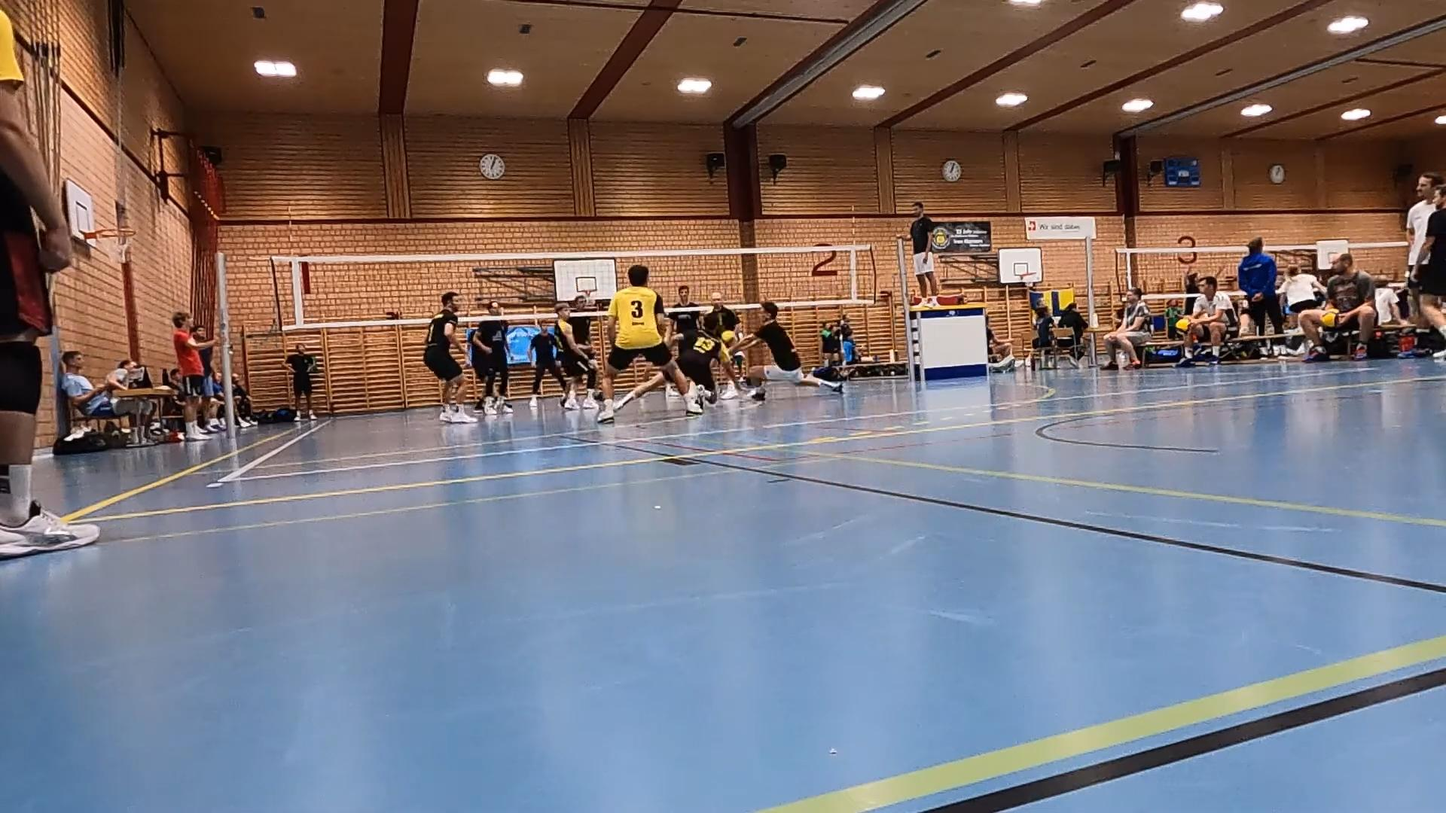difesa: (727, 300, 851, 402)
